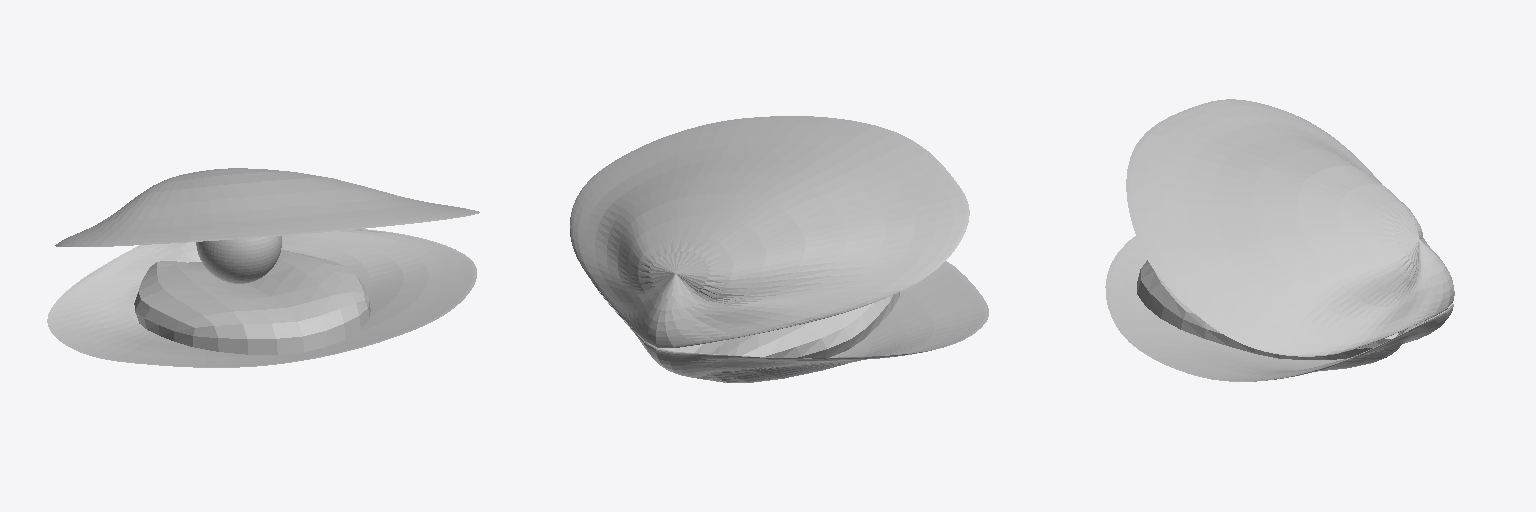
Rendered from clam.obj.
The picture shows the model from 3 angles: view 1: azimuth 30°, elevation 25°; view 2: azimuth 150°, elevation 25°; view 3: azimuth 270°, elevation 25°; orthographic projection.
Parts seen in each view (by area): view 1: Clam_Circle.002; view 2: Clam_Circle.002; view 3: Clam_Circle.002.
Boxes of the visible parts, x1,y1,x2,y2 form: Clam_Circle.002: [47, 168, 479, 367]; Clam_Circle.002: [570, 116, 988, 382]; Clam_Circle.002: [1105, 99, 1454, 381].
Size of the model in its own units: 3.85 by 1.56 by 2.89.